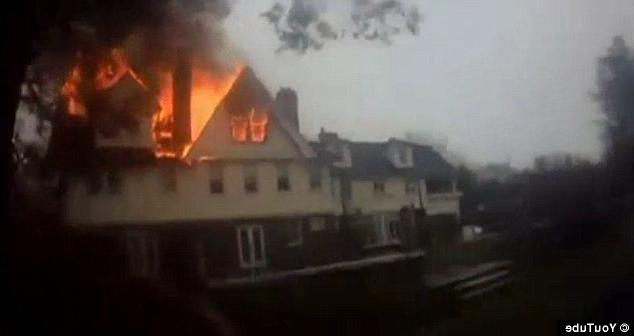fire: (66, 53, 272, 151)
